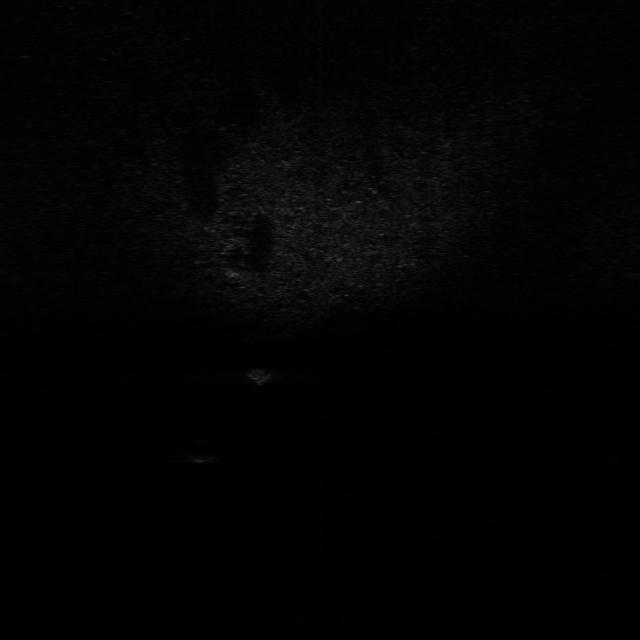ball: (187, 435, 222, 463)
cube: (243, 364, 277, 384)
